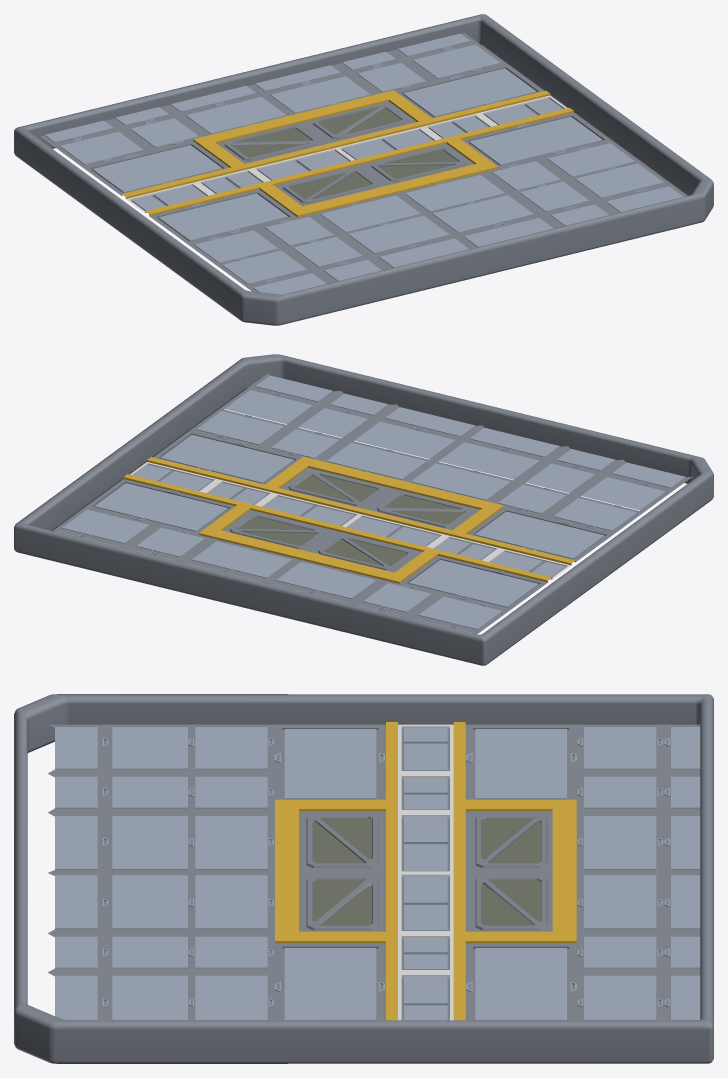
The model's file is Level33_Ground.fbx.
3 views of the same model, one above another, from view 1: azimuth 30°, elevation 25°; view 2: azimuth 150°, elevation 25°; view 3: azimuth 270°, elevation 25° (orthographic). The views are drawn at different scales.
Visible parts, largest first — view 1: pCube95 (×2), Border1, pCube100 (×4), pCube113 (×2), pCube111 (×2), pPlane1 (×4), pCube87 (×4); view 2: Border1, pCube95 (×2), pCube100 (×4), pCube113 (×2), pCube111 (×2), pPlane1 (×4), pCube87 (×4); view 3: pCube95 (×2), pCube100 (×4), Border1, pCube113 (×2), pCube111 (×2), pPlane1 (×4), pCube87 (×4).
Part boxes in pixels (box(x1,y1,x2,y2)): pCube95 (×2): box(121, 90, 641, 266); Border1: box(14, 14, 713, 325); pCube100 (×4): box(40, 33, 543, 195); pCube113 (×2): box(218, 163, 670, 287); pCube111 (×2): box(247, 184, 686, 294); pPlane1 (×4): box(232, 108, 458, 199); pCube87 (×4): box(224, 104, 465, 203); Border1: box(14, 354, 713, 665); pCube95 (×2): box(123, 408, 643, 582); pCube100 (×4): box(53, 479, 547, 634); pCube113 (×2): box(220, 387, 672, 511); pCube111 (×2): box(249, 373, 692, 490); pPlane1 (×4): box(238, 475, 464, 566); pCube87 (×4): box(230, 471, 471, 570); pCube95 (×2): box(188, 722, 465, 1020); pCube100 (×4): box(465, 724, 700, 1020); Border1: box(14, 694, 713, 1063); pCube113 (×2): box(105, 724, 187, 1020); pCube111 (×2): box(48, 724, 104, 1020); pPlane1 (×4): box(313, 818, 541, 925); pCube87 (×4): box(306, 813, 547, 930).
Size of the model in its own units: 641 by 36.61 by 570.
